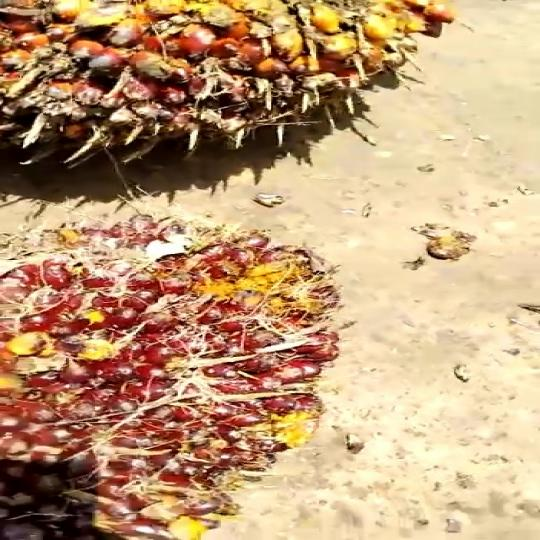kurang masak: (0, 194, 347, 540), (0, 0, 459, 166)
